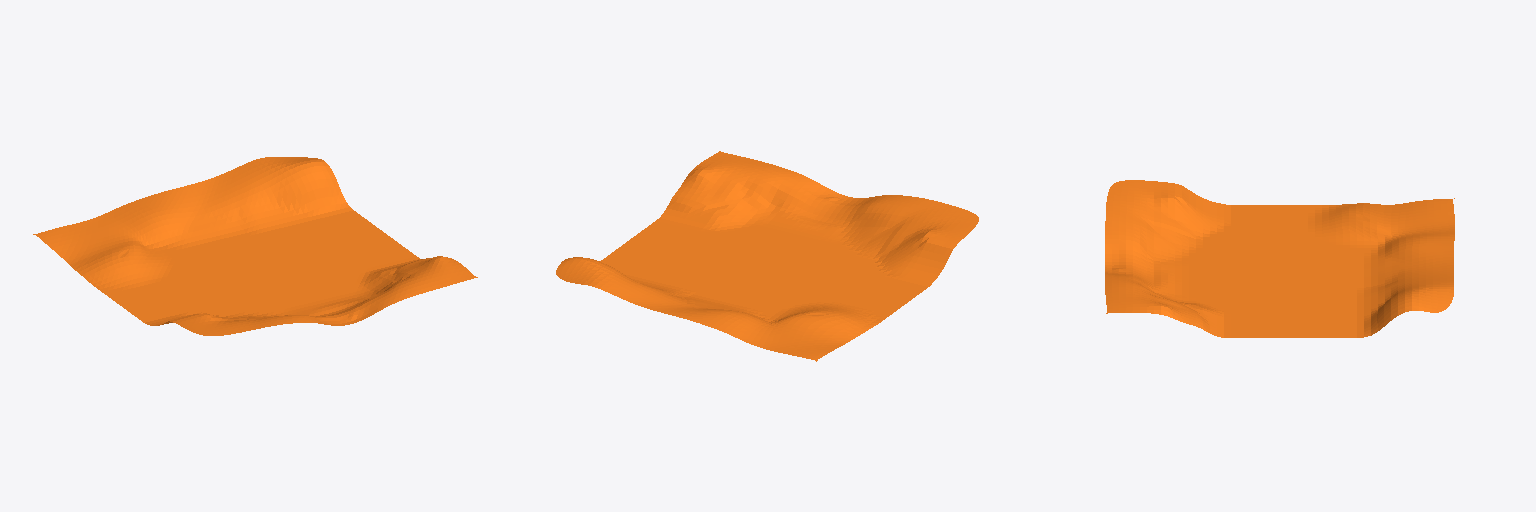
The model's file is desert_test.obj.
3 views of the same model, side by side, from view 1: azimuth 30°, elevation 25°; view 2: azimuth 150°, elevation 25°; view 3: azimuth 270°, elevation 25° (orthographic).
Parts seen in each view (by area): view 1: Plane; view 2: Plane; view 3: Plane.
Boxes of the visible parts, x1=… form: Plane: x1=33, y1=157, x2=477, y2=335; Plane: x1=556, y1=151, x2=978, y2=361; Plane: x1=1105, y1=180, x2=1454, y2=337.
Bounding box in the file's own units: 210 × 23.11 × 232.